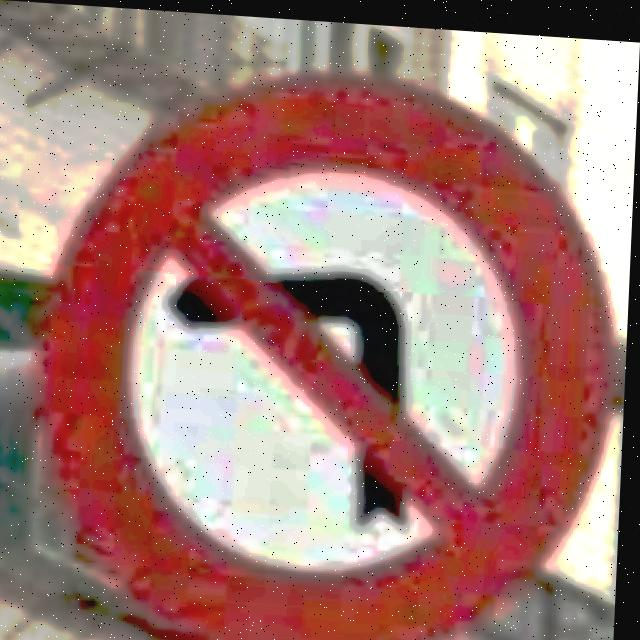noturnleft: (43, 69, 619, 640)
